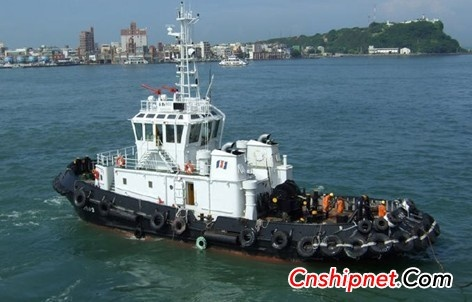otherboat: (42, 4, 444, 257)
